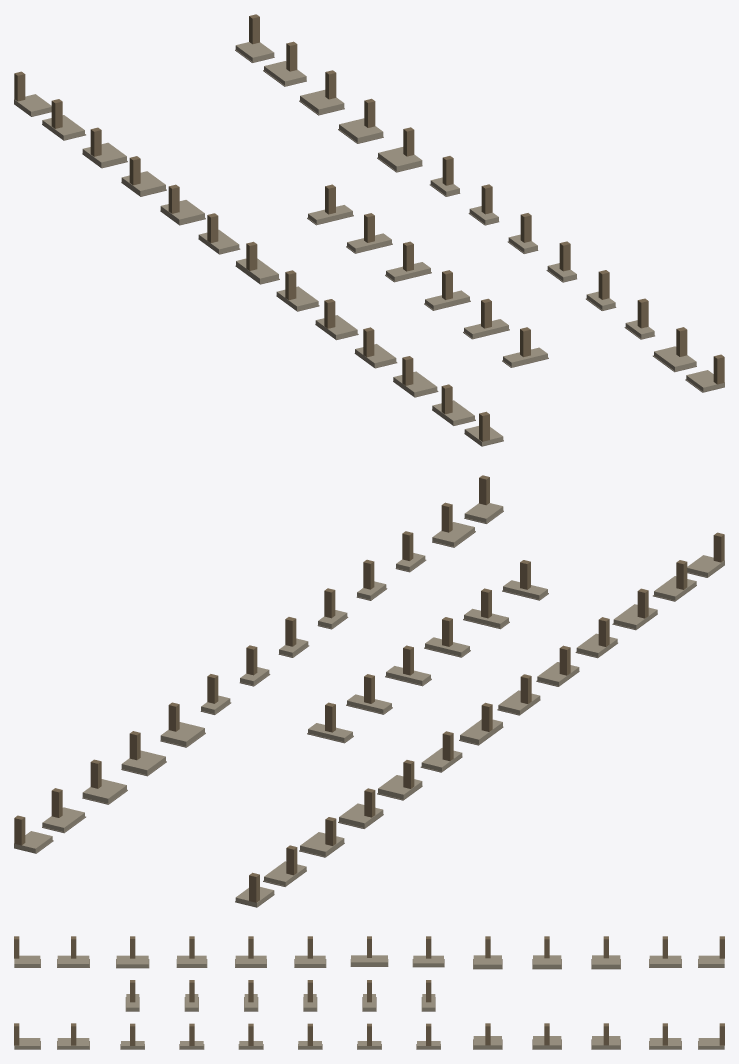
File: pondasi.glb
3 views of the same model, one above another, from view 1: azimuth 30°, elevation 25°; view 2: azimuth 150°, elevation 25°; view 3: azimuth 270°, elevation 25° (orthographic). The views are drawn at different scales.
Visible parts, largest first — view 1: pondasi; view 2: pondasi; view 3: pondasi.
Part boxes in pixels (x1,y1,x2,y2): pondasi: (14, 14, 724, 446); pondasi: (14, 475, 724, 907); pondasi: (14, 936, 724, 1049).
Bounding box in the file's own units: 18 × 2.17 × 60.06.
